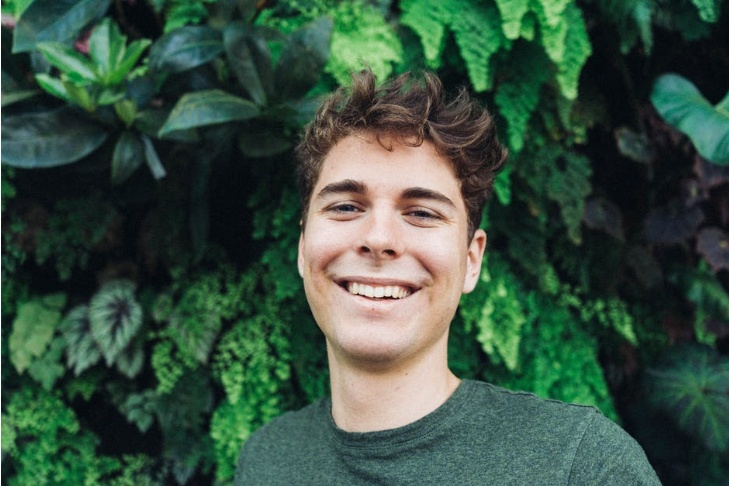face: (300, 140, 467, 358)
